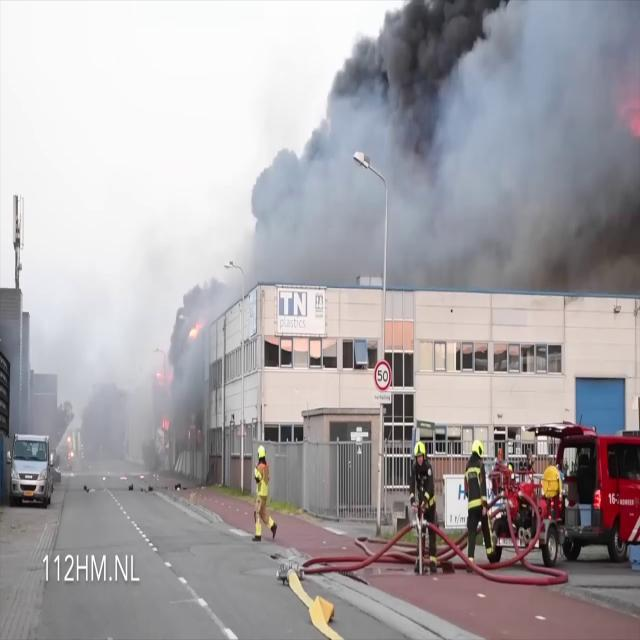Smoke: (226, 0, 640, 297), (56, 284, 222, 520)
